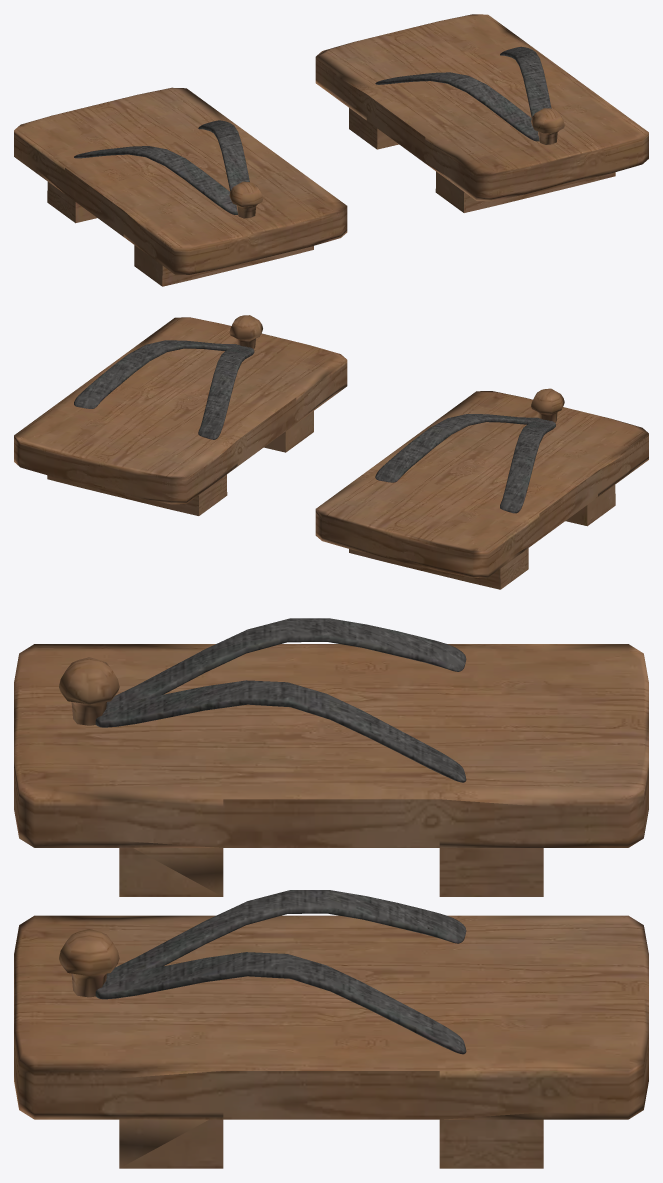
File: geta-user-v52.glb
3 views of the same model, one above another, from view 1: azimuth 30°, elevation 25°; view 2: azimuth 150°, elevation 25°; view 3: azimuth 270°, elevation 25° (orthographic). The views are drawn at different scales.
Visible parts, largest first — view 1: pCube9_lambert1_0; view 2: pCube9_lambert1_0; view 3: pCube9_lambert1_0.
Boxes of the visible parts, x1,y1,x2,y2 form: pCube9_lambert1_0: (14,14,648,286); pCube9_lambert1_0: (14,315,648,589); pCube9_lambert1_0: (14,618,648,1168).
Size of the model in its own units: 0.4059 by 0.0761 by 0.255.
Materials: 1 (1 with a texture image).
